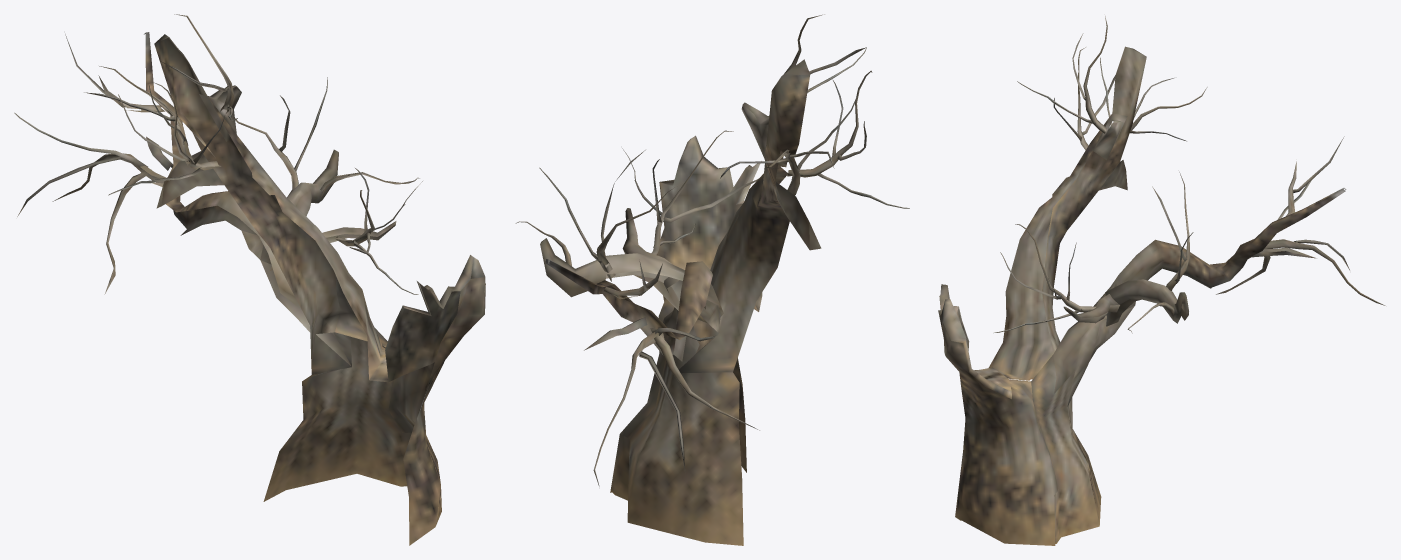
The model's file is S_Tree_Yellow071_1.FBX.
3 renders of one model, left to right at view 1: azimuth 30°, elevation 25°; view 2: azimuth 150°, elevation 25°; view 3: azimuth 270°, elevation 25°, orthographic. The views are drawn at different scales.
Parts seen in each view (by area): view 1: S_Tree_Yellow071_1; view 2: S_Tree_Yellow071_1; view 3: S_Tree_Yellow071_1.
Boxes of the visible parts, bbox=[...] form: S_Tree_Yellow071_1: bbox=[14, 14, 485, 545]; S_Tree_Yellow071_1: bbox=[515, 14, 909, 545]; S_Tree_Yellow071_1: bbox=[938, 16, 1385, 545].
Size of the model in its own units: 406 by 544 by 591.
